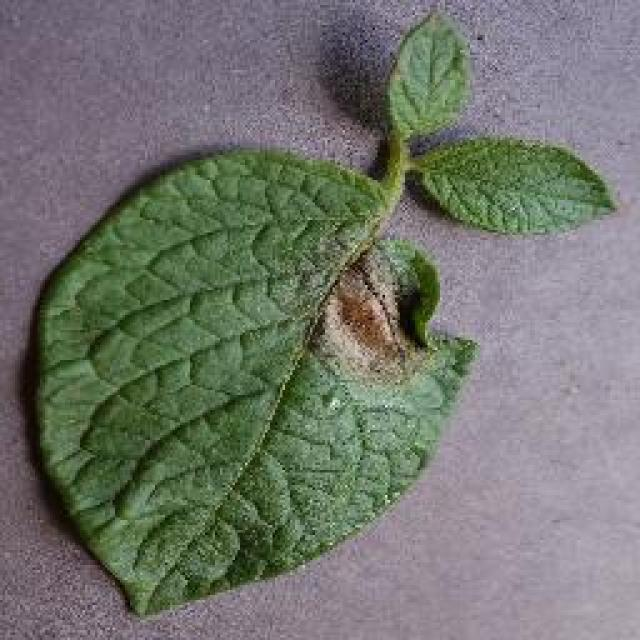Potato___Late_blight: (29, 6, 625, 625)
